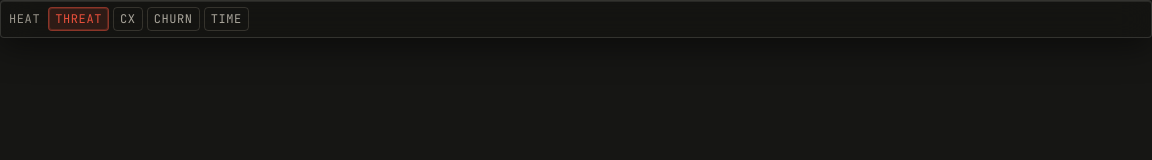
the TIME channel and its field › names the limit: deletions before the scan are not in this city, undated files are not 'not yet'
The width and height of the screenshot is (1152, 160).
Step 1. Click the radio button labelled "TIME" → (226, 19), box [204,7,249,31]
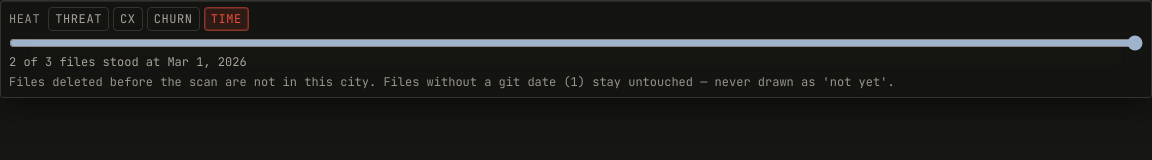
Expected: the text "deleted before the scan" is shown, [9,74,895,90]
Expected: the text "without a git date (1)" is shown, [9,74,895,90]
